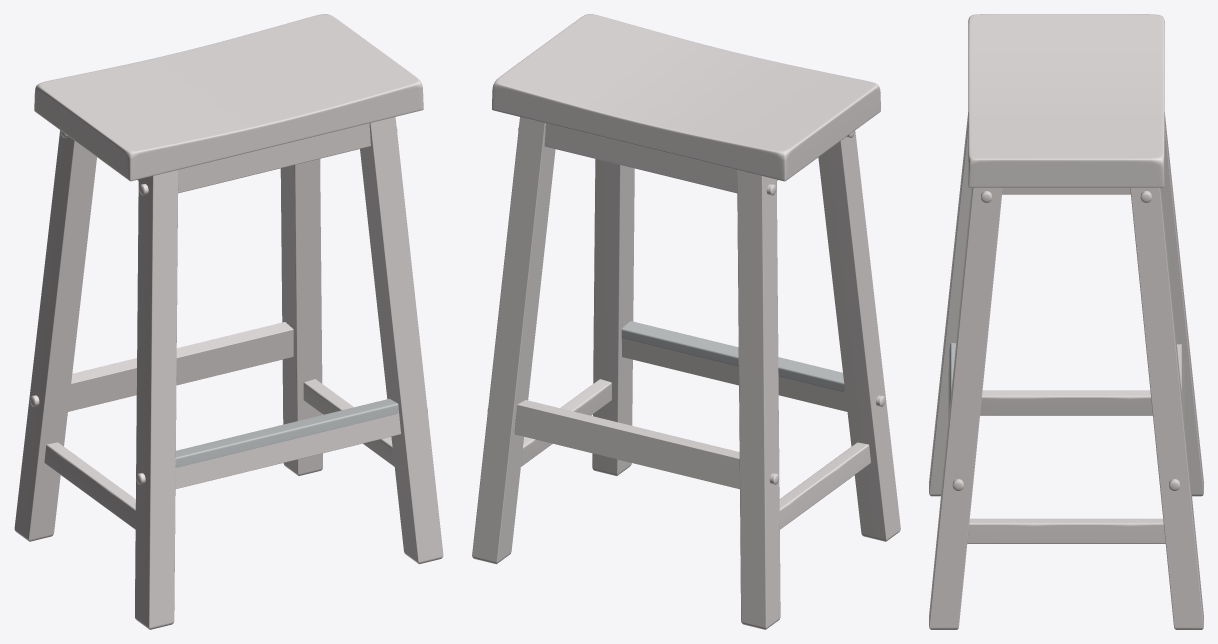
File: stool_B07L6BMW6Q.glb
3 renders of one model, left to right at view 1: azimuth 30°, elevation 25°; view 2: azimuth 150°, elevation 25°; view 3: azimuth 270°, elevation 25°, orthographic.
Parts seen in each view (by area): view 1: RootNode; view 2: RootNode; view 3: RootNode.
Part boxes in pixels (bbox=[...]): RootNode: bbox=[14, 14, 443, 629]; RootNode: bbox=[472, 14, 900, 629]; RootNode: bbox=[929, 14, 1203, 629].
Bounding box in the file's own units: 0.4056 × 0.6096 × 0.3221.
1 material, 1 textured.
